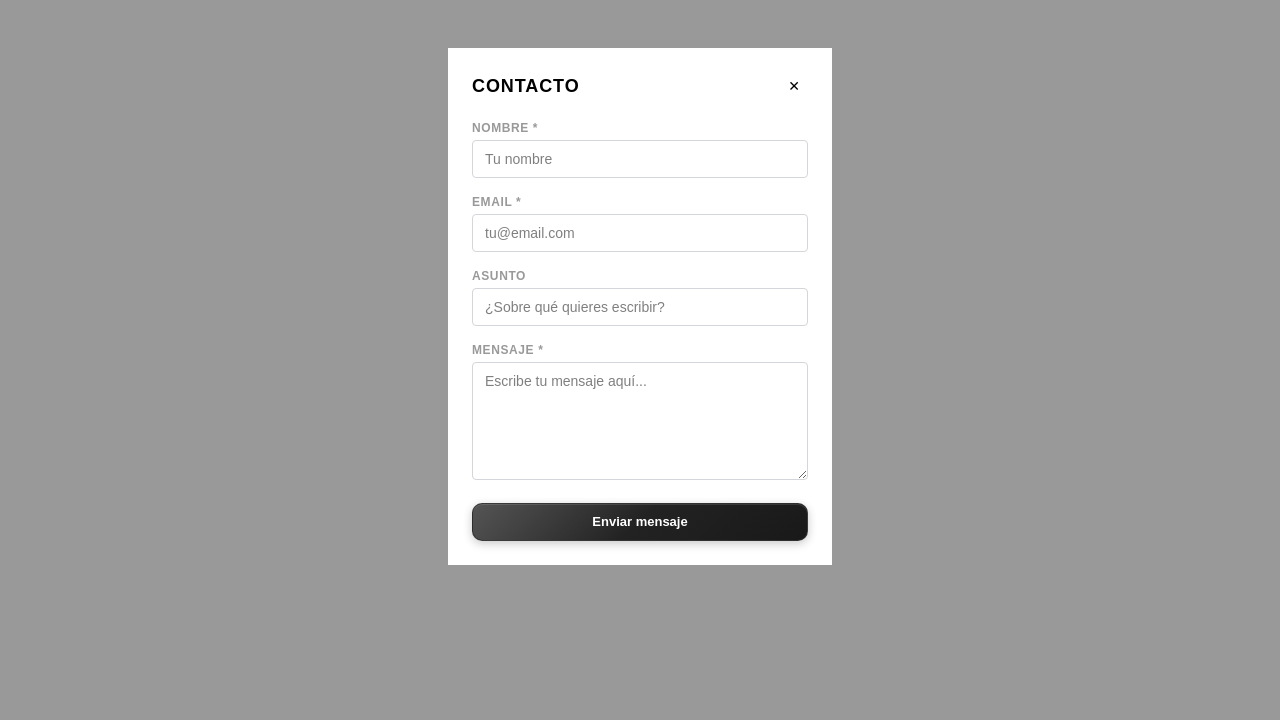
Test: ContactModal component › submits the form and shows success state
Type "Juan Pérez" into the field with placeholder "Tu nombre".
click(640, 159); type("Juan Pérez")  # box [472,140,808,178]
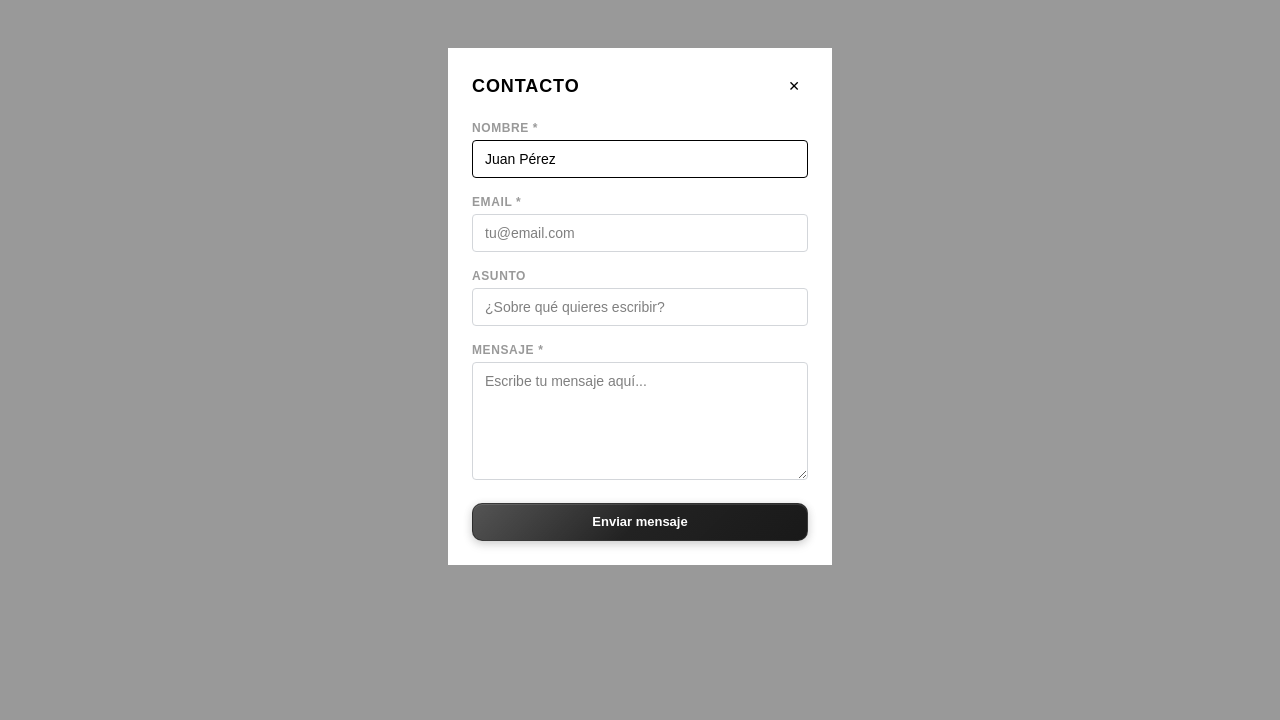
Type "juan@example.com" into the field with placeholder "tu@email.com".
click(640, 233); type("juan@example.com")  # box [472,214,808,252]
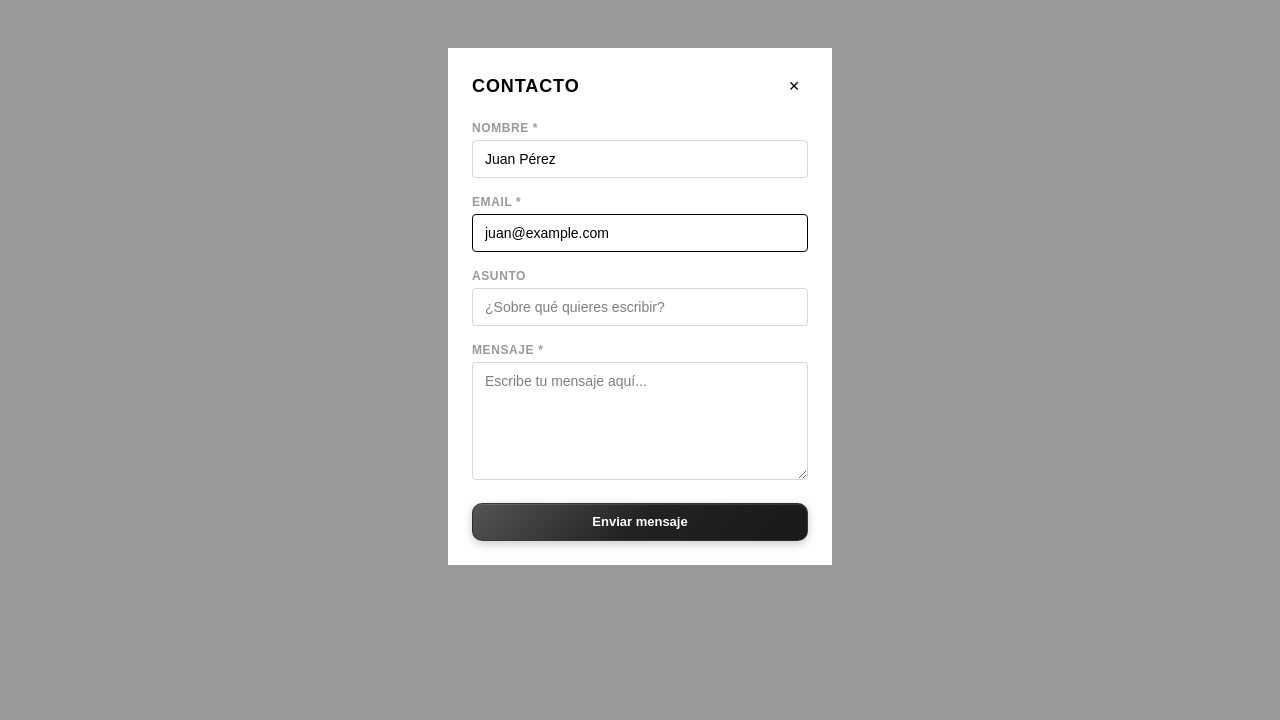
Type "Sugerencia" into the field with placeholder "¿Sobre qué quieres escribir?".
click(640, 307); type("Sugerencia")  # box [472,288,808,326]
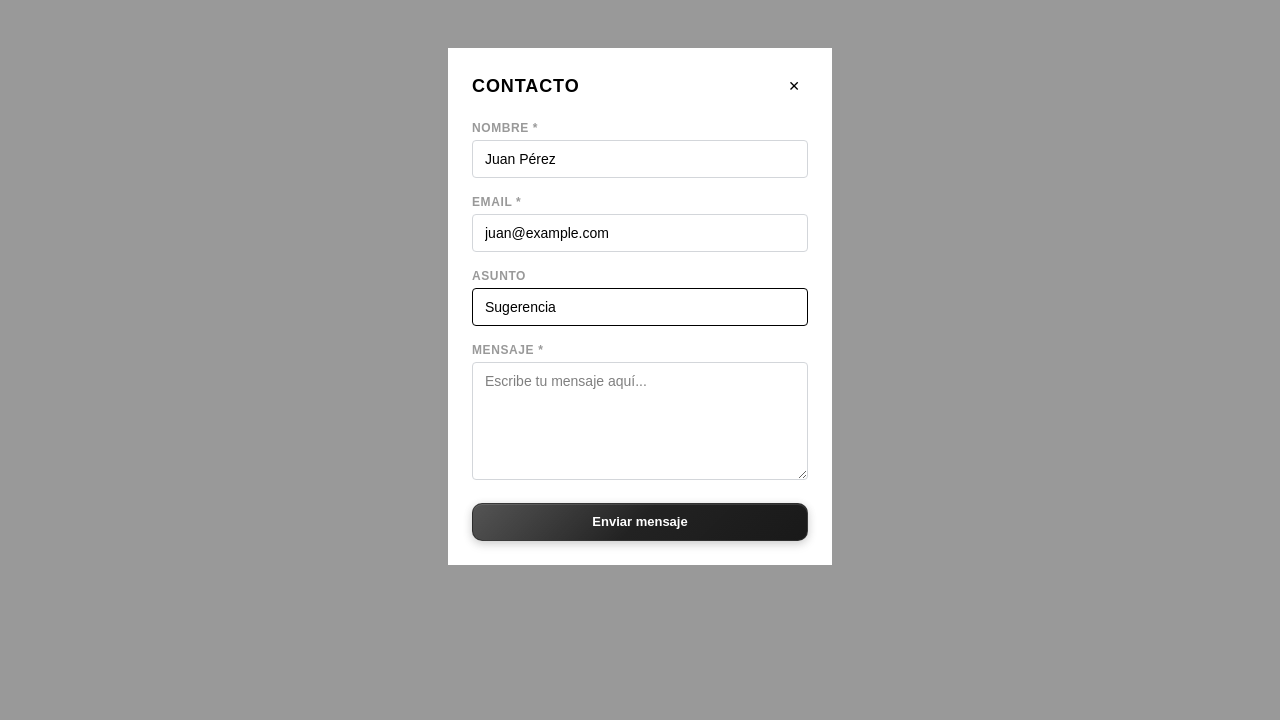
Type "Hola, me gusta el juego. Muy buen trabajo." into the text box with placeholder "Escribe tu mensaje aquí...".
click(640, 421); type("Hola, me gusta el juego. Muy buen trabajo.")  # box [472,362,808,480]
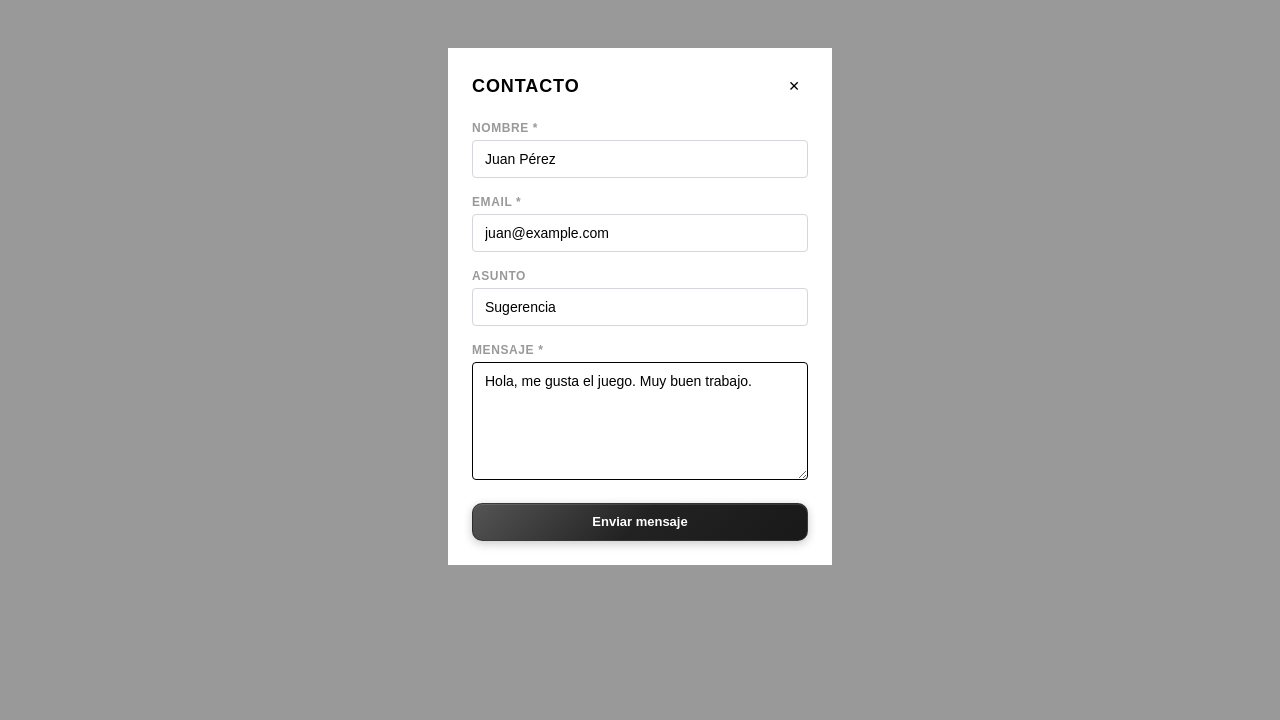
Click the button "Enviar mensaje".
click(640, 522)  # box [472,503,808,540]
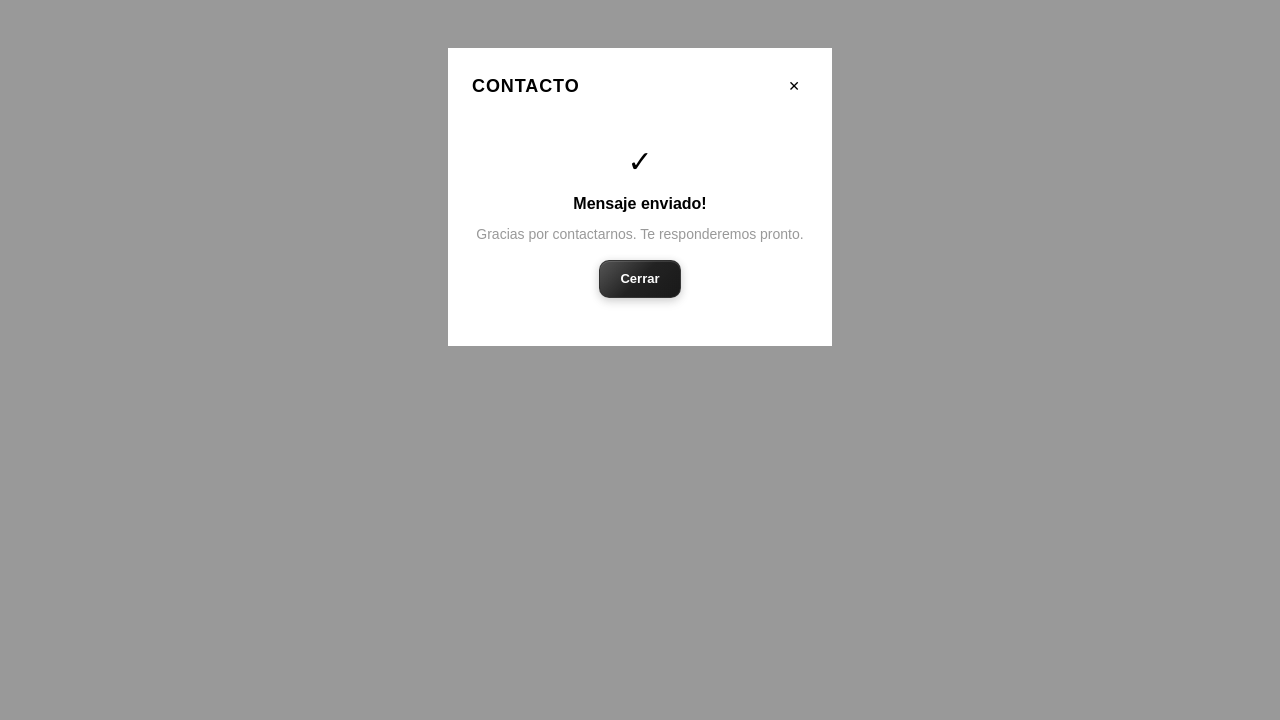
Expected: the text "Mensaje enviado!" is shown, [573,195,707,212]
Expected: the text "Gracias por contactarnos. Te responderemos pronto." is shown, [472,224,808,244]
